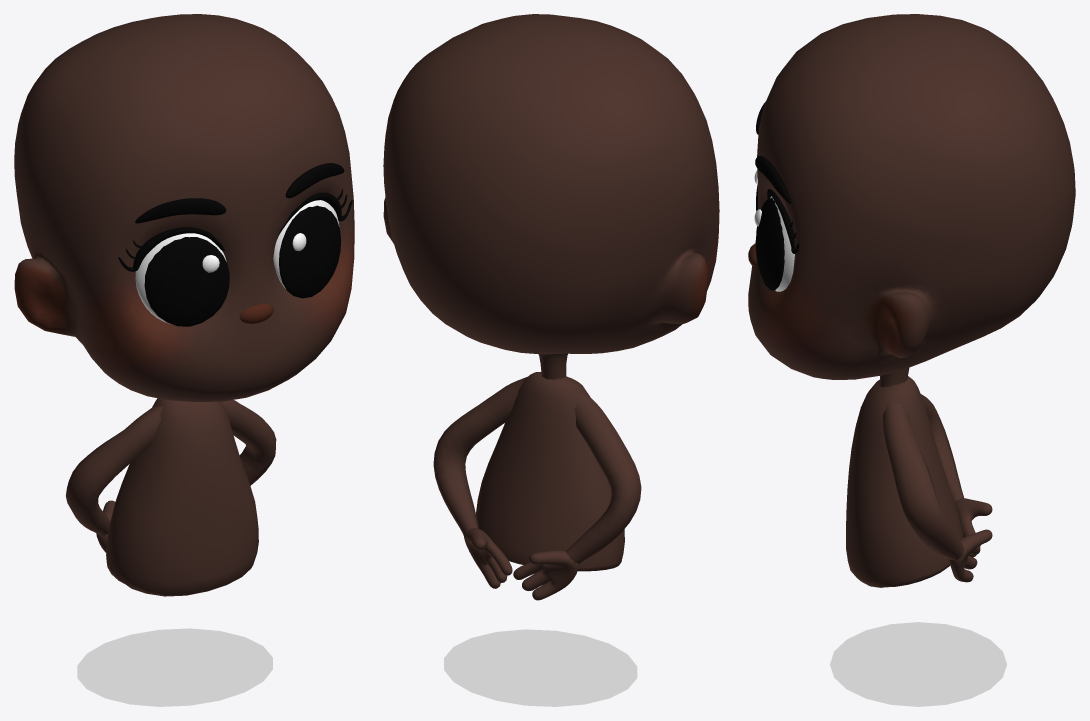
File: Character_Model.FBX
3 views of the same model, side by side, from view 1: azimuth 30°, elevation 25°; view 2: azimuth 150°, elevation 25°; view 3: azimuth 270°, elevation 25° (orthographic).
Visible parts, largest first — view 1: BodyShape, Shadow, Eyes, Eyebrows, Eye_Lashes; view 2: BodyShape, Shadow; view 3: BodyShape, Shadow, Eyes, Eyebrows.
Boxes of the visible parts, left/top/right/bottom form: BodyShape: left=14, top=14, right=354, bottom=596; Shadow: left=77, top=628, right=272, bottom=706; Eyes: left=144, top=205, right=341, bottom=326; Eyebrows: left=135, top=163, right=344, bottom=223; Eye_Lashes: left=118, top=189, right=352, bottom=271; BodyShape: left=383, top=14, right=719, bottom=600; Shadow: left=444, top=629, right=637, bottom=706; BodyShape: left=748, top=14, right=1075, bottom=587; Shadow: left=830, top=622, right=1006, bottom=706; Eyes: left=756, top=185, right=784, bottom=290; Eyebrows: left=755, top=101, right=791, bottom=203.
Bounding box in the file's own units: 1.71 × 3.21 × 1.52.
